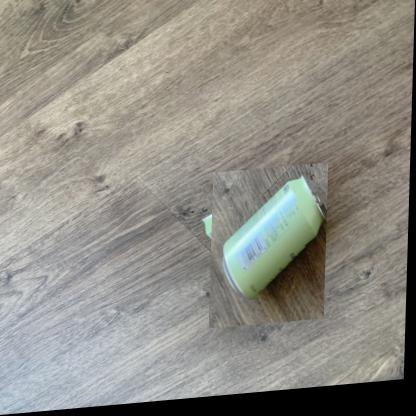trash: (223, 177, 323, 297)
